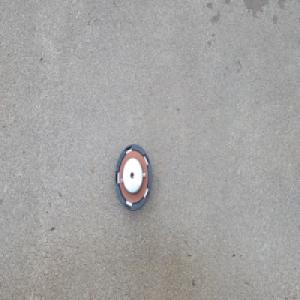FuelCap: (113, 143, 153, 217)
